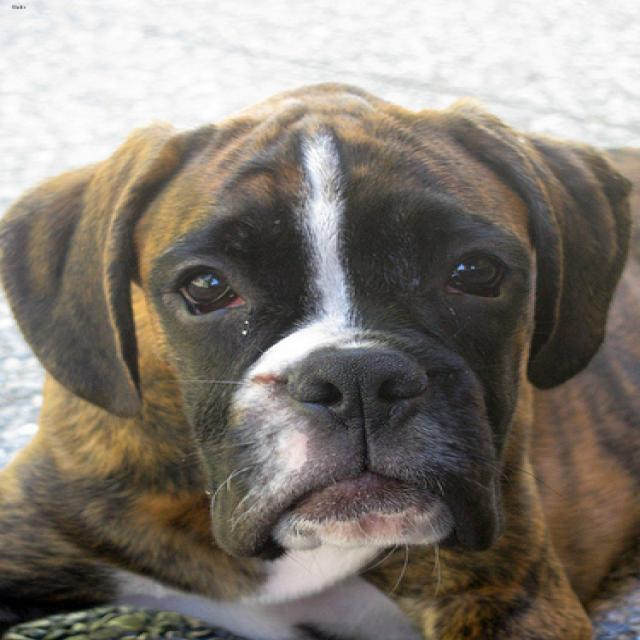dog-boxer: (2, 74, 637, 637)
